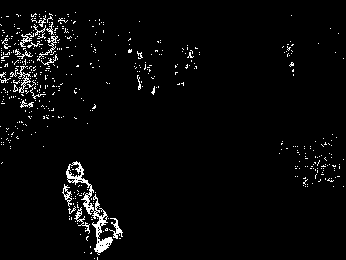person: (63, 160, 122, 260)
